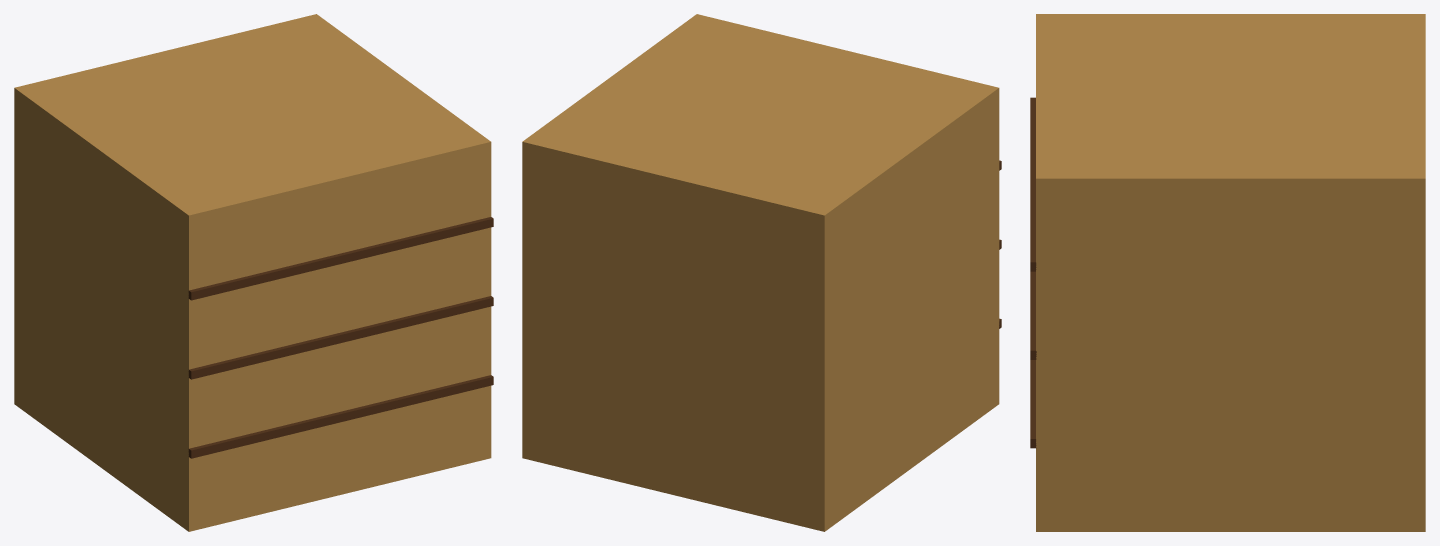
Rendered from wood_planks.glb.
3 views of the same model, side by side, from view 1: azimuth 30°, elevation 25°; view 2: azimuth 150°, elevation 25°; view 3: azimuth 270°, elevation 25° (orthographic). The views are drawn at different scales.
Visible parts, largest first — view 1: wood_planks; view 2: wood_planks; view 3: wood_planks.
Part boxes in pixels (box(x1,y1,x2,y2)): wood_planks: box(14, 14, 493, 531); wood_planks: box(522, 14, 1001, 531); wood_planks: box(1030, 14, 1425, 531).
Size of the model in its own units: 1 by 1 by 1.01.
